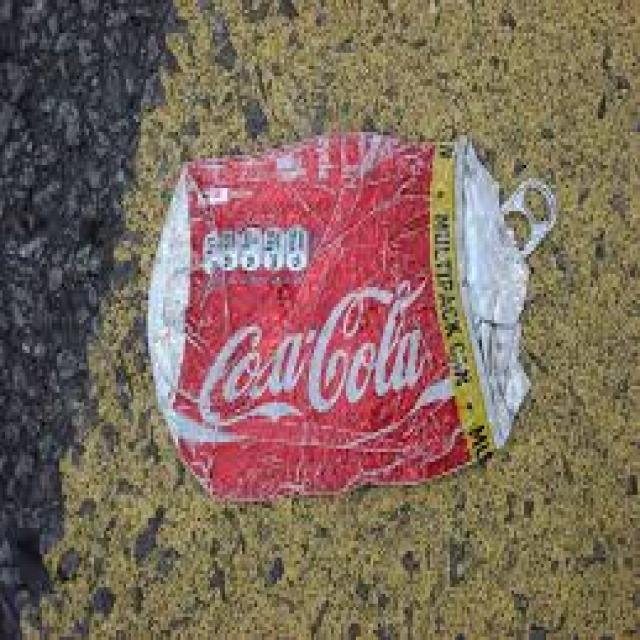metal: (141, 139, 553, 498)
